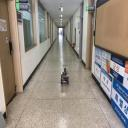cart: (60, 72, 70, 84)
